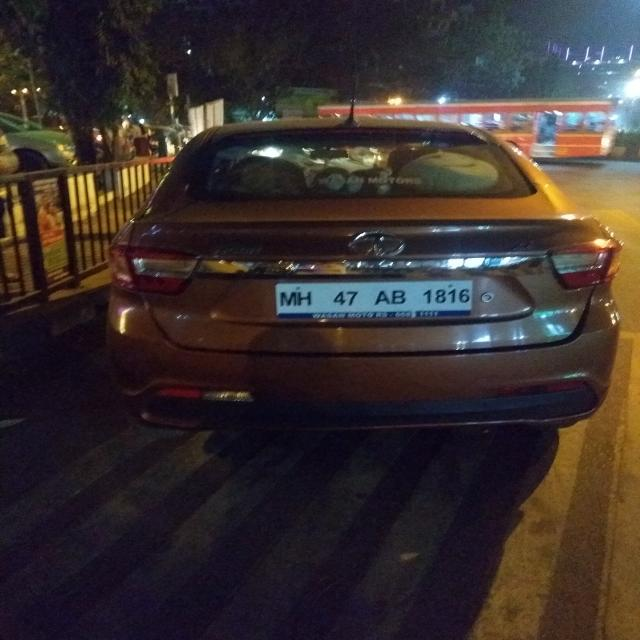Number-Plate: (271, 278, 487, 318)
